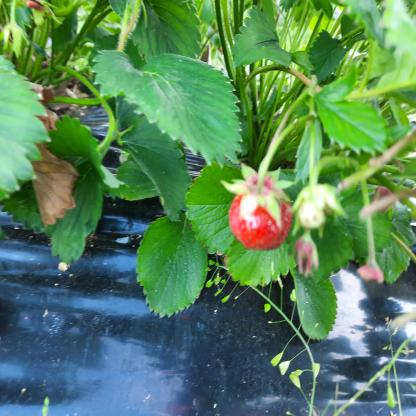ripe: (232, 177, 294, 250)
